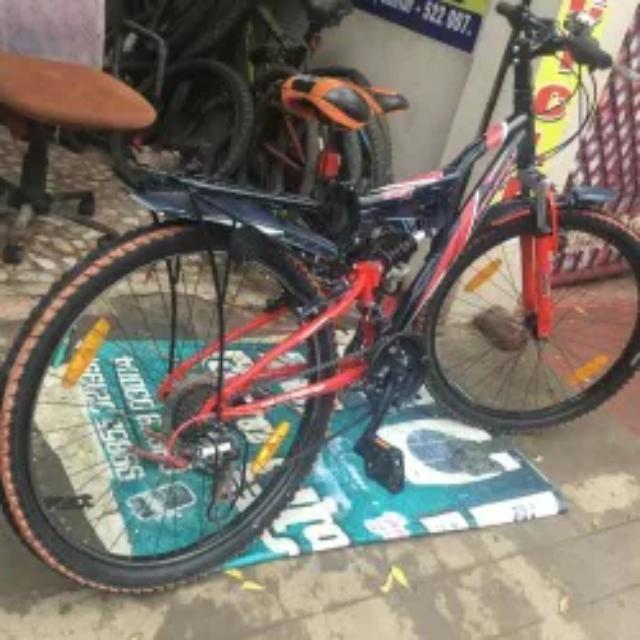obstacle: (0, 38, 640, 586)
